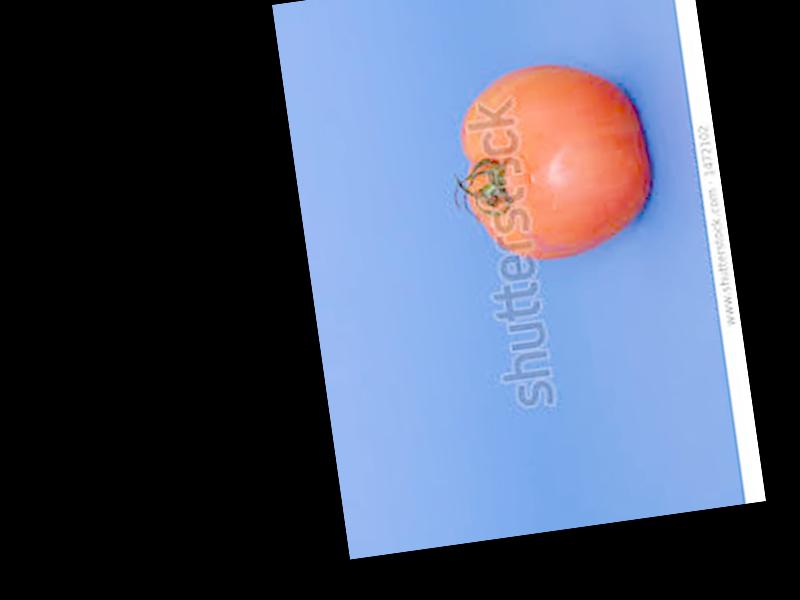Tomato: (449, 49, 657, 267)
